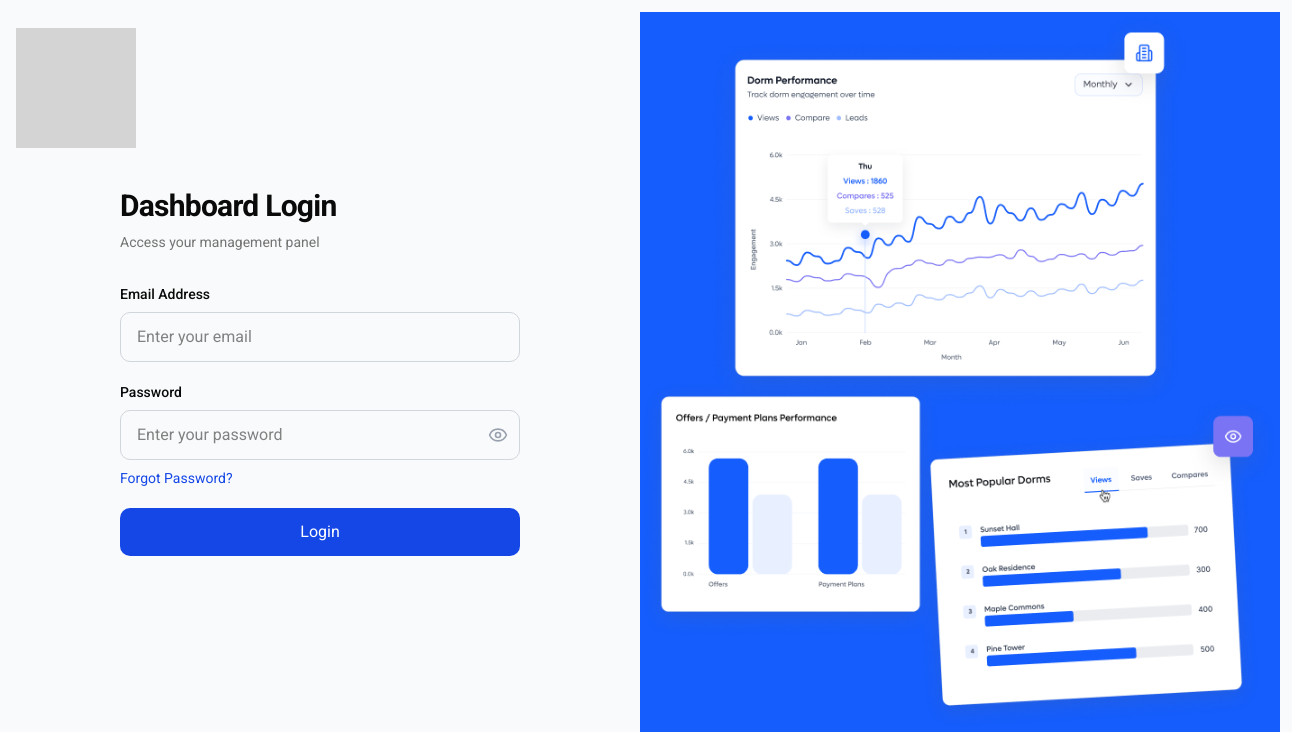
it: Login Form › shows error when password is too short
Type "test@example.com" into the field with id "email". click: point(320, 337)
box: [120,312,520,362]
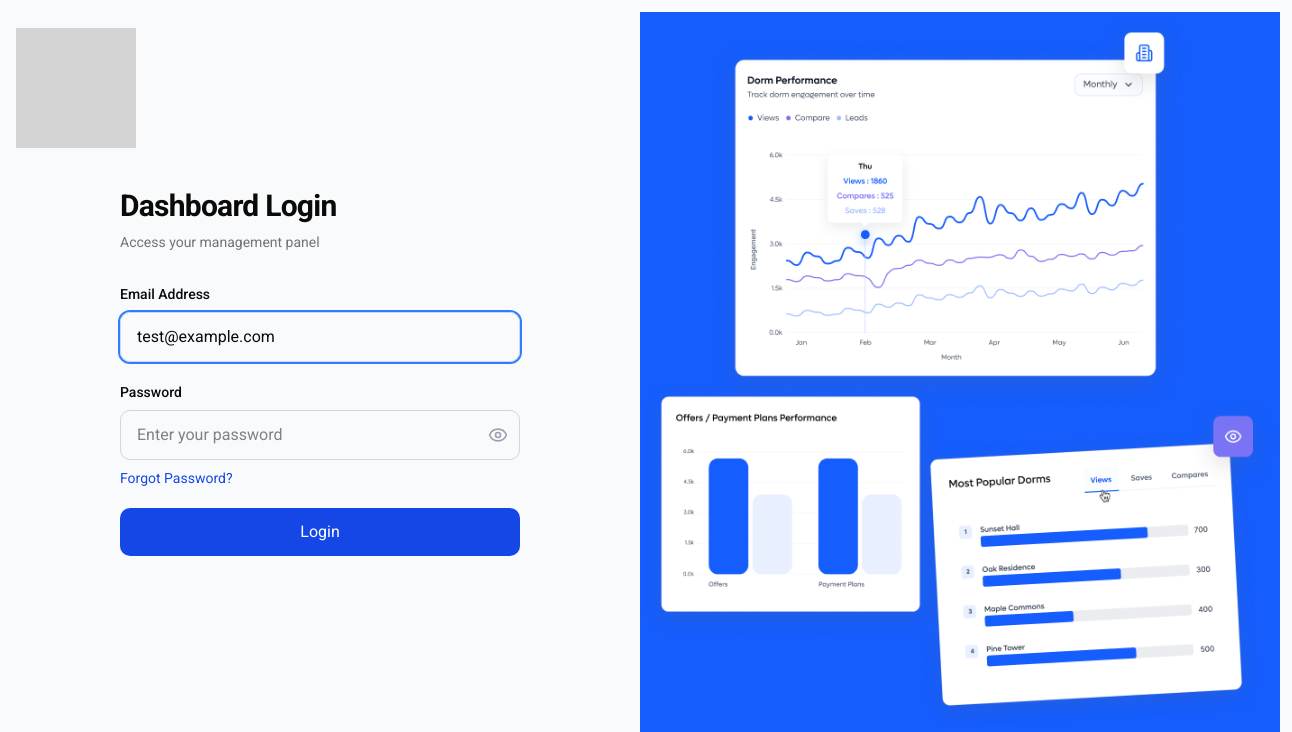
Type "abc" into the password field labelled "Password". click: point(320, 435)
box: [120,410,520,460]
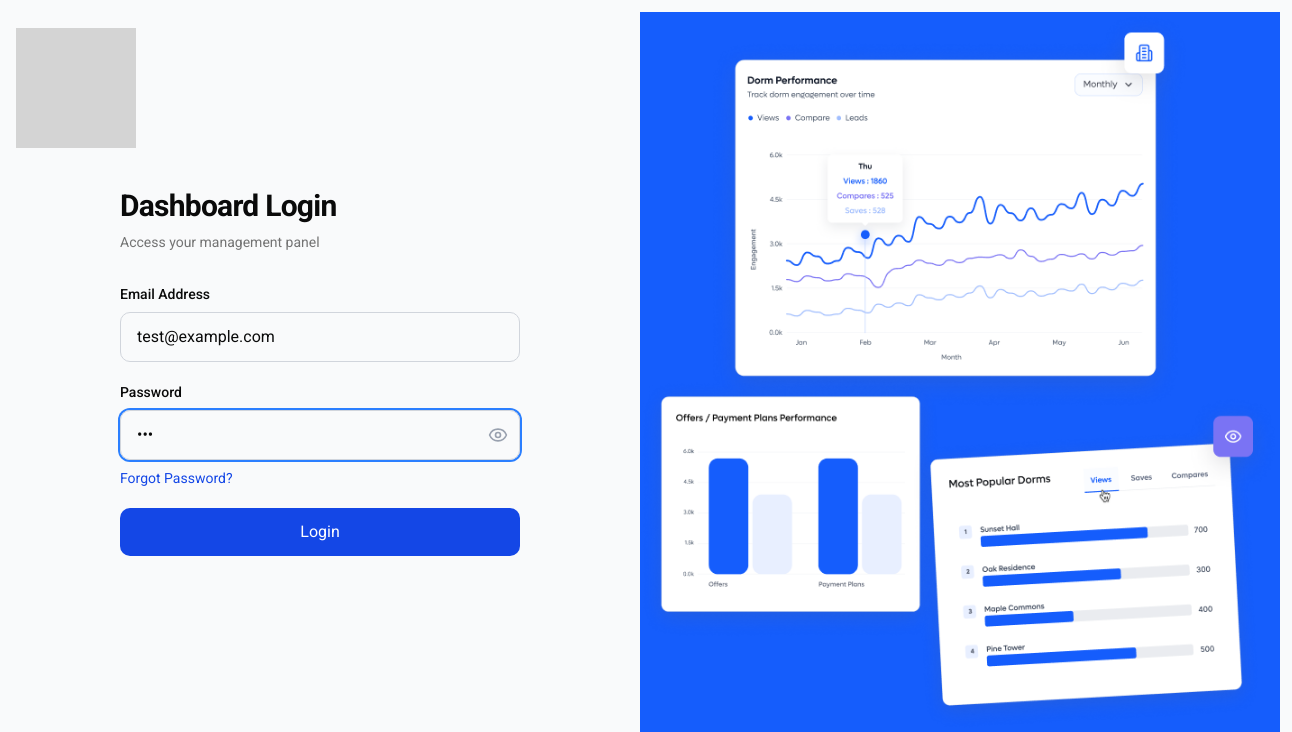
Click the button "Login". click: point(320, 532)
box: [120,508,520,556]
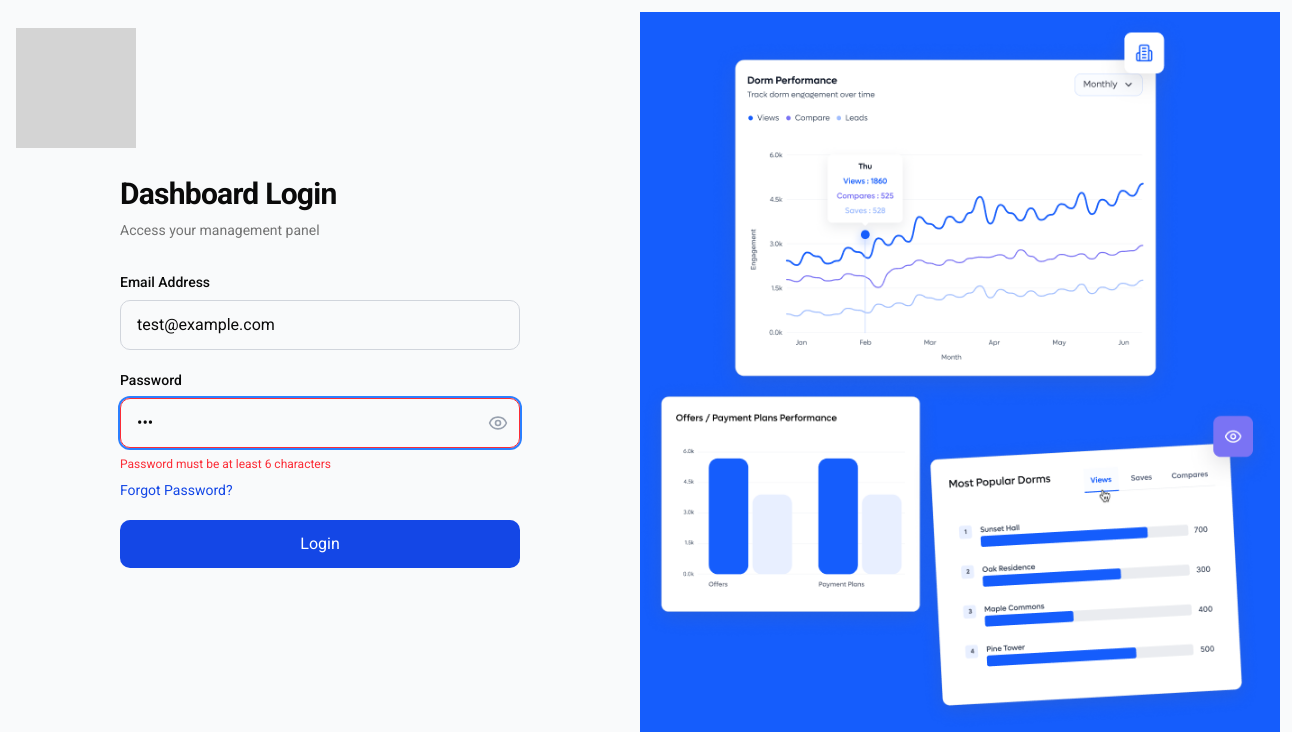
Expected: the text "Password must be at least 6 characters" is shown, [120,457,331,471]
